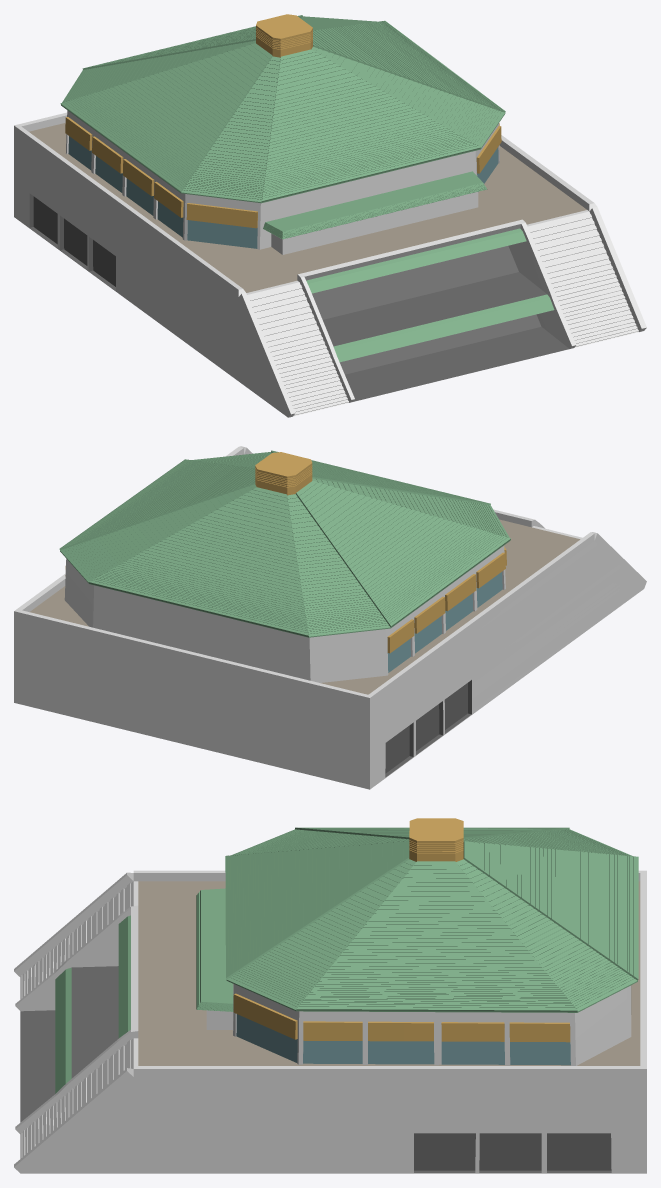
Rendered from Kokugikan(Boxing).fbx.
3 views of the same model, one above another, from view 1: azimuth 30°, elevation 25°; view 2: azimuth 150°, elevation 25°; view 3: azimuth 270°, elevation 25° (orthographic). The views are drawn at different scales.
Parts seen in each view (by area): view 1: pCube78, Kokugikan, pCube79; view 2: Kokugikan, pCube78; view 3: pCube78, Kokugikan, pCube79.
Part boxes in pixels (x1,y1,x2,y2): pCube78: [14, 112, 646, 417]; Kokugikan: [60, 14, 505, 249]; pCube79: [263, 171, 487, 254]; Kokugikan: [59, 450, 510, 682]; pCube78: [14, 446, 646, 789]; pCube78: [14, 870, 646, 1173]; Kokugikan: [225, 818, 638, 1065]; pCube79: [196, 888, 233, 1029].
Bounding box in the file's own units: 13.27 × 7.65 × 17.9.
